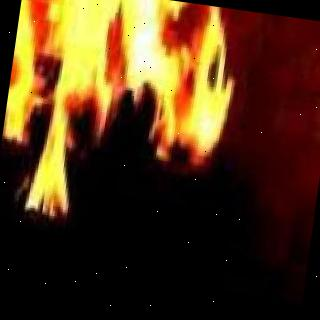fire: (4, 0, 234, 146)
